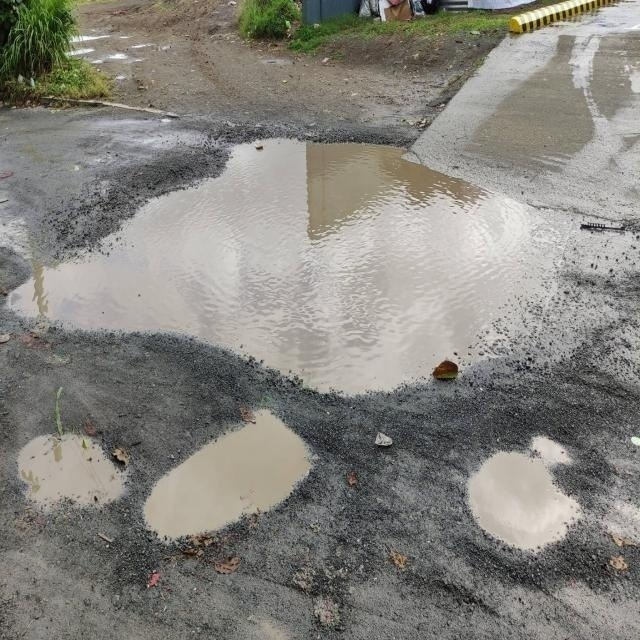pothole: (152, 378, 328, 562), (438, 412, 599, 597), (27, 403, 134, 554)
